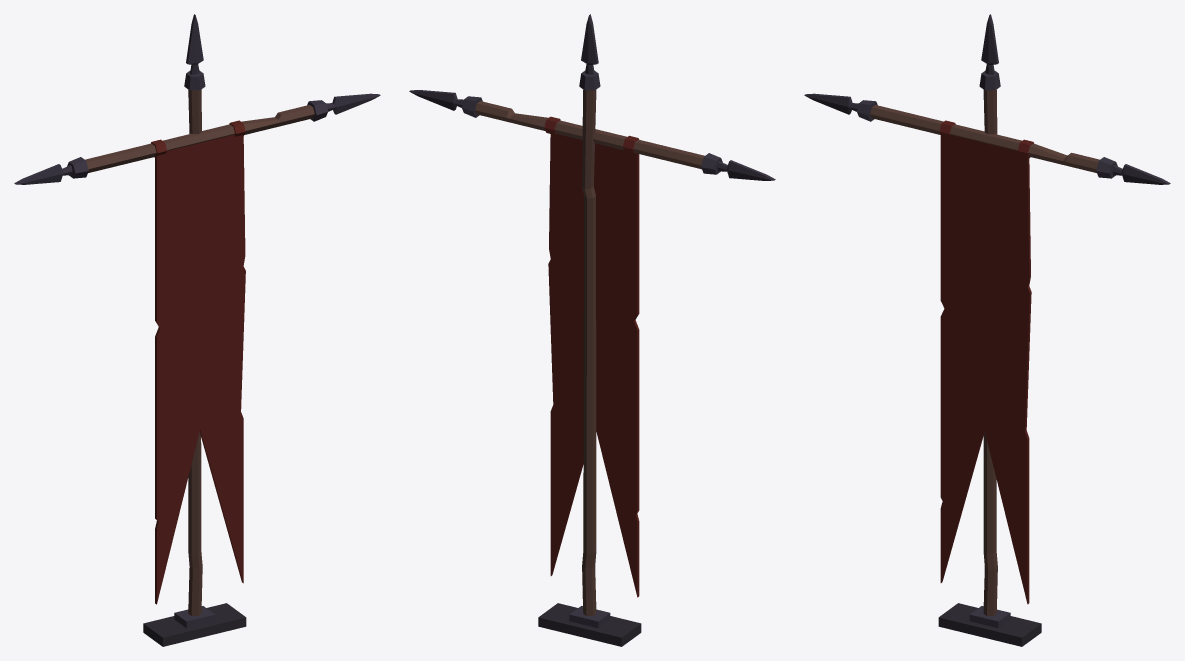
File: dn_banner.glb
The picture shows the model from 3 angles, left to right: view 1: azimuth 30°, elevation 25°; view 2: azimuth 150°, elevation 25°; view 3: azimuth 330°, elevation 25°; orthographic projection.
Parts seen in each view (by area): view 1: dn_banner2; view 2: dn_banner2; view 3: dn_banner2.
Part boxes in pixels (left/top/right/bottom): dn_banner2: left=14, top=14, right=380, bottom=646; dn_banner2: left=409, top=14, right=775, bottom=646; dn_banner2: left=804, top=14, right=1170, bottom=646.
Size of the model in its own units: 2.24 by 3.6 by 0.2078.
